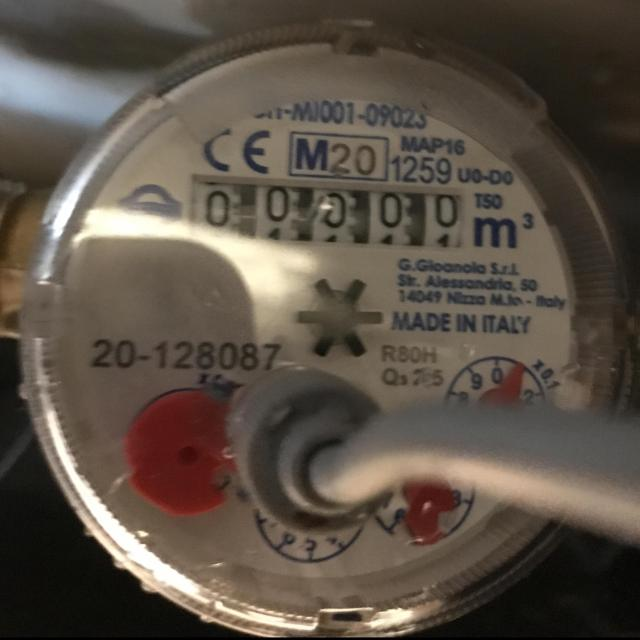gaz_meter: (50, 42, 581, 616)
indication: (189, 175, 465, 250)
